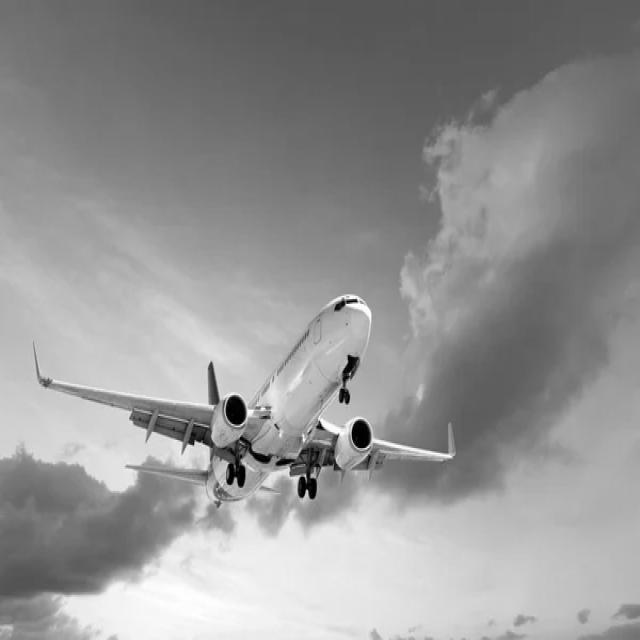Aircraft: (31, 289, 458, 516)
